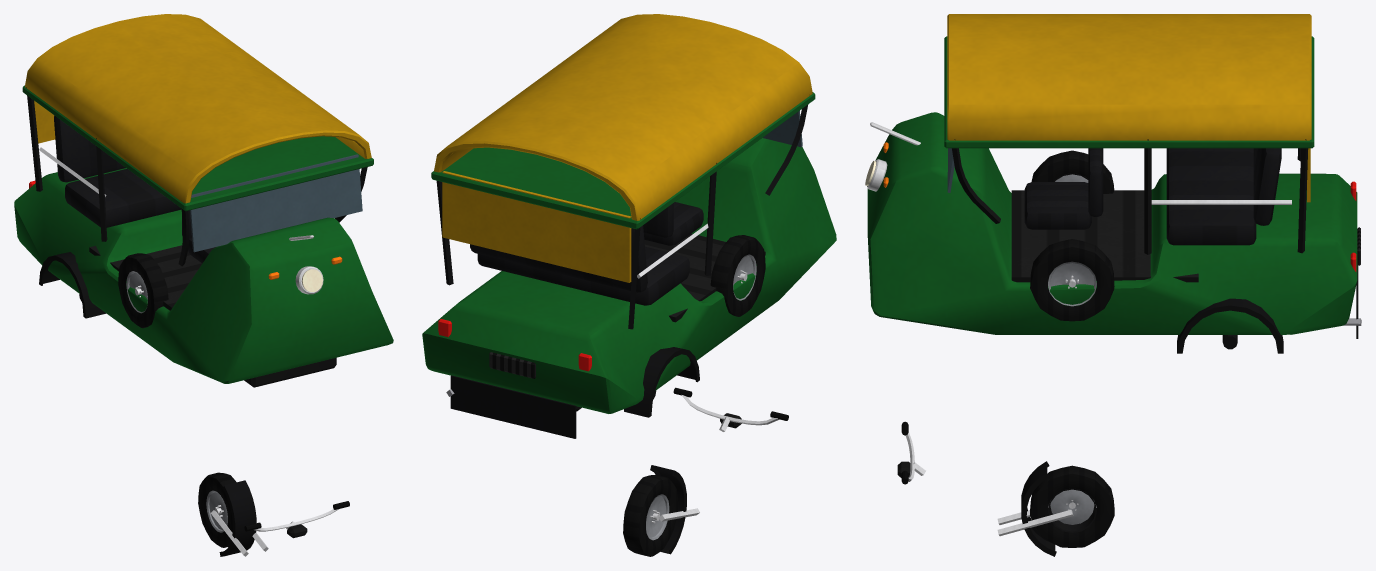
Rendered from AutoRickshaw.fbx.
3 views of the same model, side by side, from view 1: azimuth 30°, elevation 25°; view 2: azimuth 150°, elevation 25°; view 3: azimuth 270°, elevation 25° (orthographic). The views are drawn at different scales.
Visible parts, largest first — view 1: Body_LOD0, Steering_Pivot_Mesh_LOD0, Wheel_RR_Mesh_LOD0, Wheel_F_Mesh_LOD0; view 2: Body_LOD0, Wheel_F_Mesh_LOD0, Wheel_RR_Mesh_LOD0, Steering_Pivot_Mesh_LOD0; view 3: Body_LOD0, Wheel_F_Mesh_LOD0, Wheel_RL_Mesh_LOD0, Steering_Pivot_Mesh_LOD0, Wheel_RR_Mesh_LOD0.
Boxes of the visible parts, box(x1,y1,x2,y2) form: Body_LOD0: box(14, 14, 393, 387); Steering_Pivot_Mesh_LOD0: box(210, 480, 349, 556); Wheel_RR_Mesh_LOD0: box(118, 253, 168, 328); Wheel_F_Mesh_LOD0: box(198, 472, 236, 547); Body_LOD0: box(422, 14, 836, 438); Wheel_F_Mesh_LOD0: box(623, 474, 678, 556); Wheel_RR_Mesh_LOD0: box(710, 235, 765, 316); Steering_Pivot_Mesh_LOD0: box(650, 387, 788, 554); Body_LOD0: box(865, 14, 1361, 353); Wheel_F_Mesh_LOD0: box(1030, 465, 1114, 547); Wheel_RL_Mesh_LOD0: box(1030, 239, 1114, 321); Steering_Pivot_Mesh_LOD0: box(897, 421, 1073, 556); Wheel_RR_Mesh_LOD0: box(1031, 150, 1114, 193).
Size of what is drawn, in the model's own units: 1.33 by 3.02 by 2.66.
